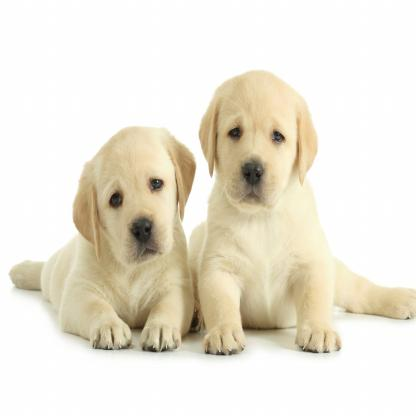dog: (198, 72, 416, 378), (11, 126, 197, 352)
